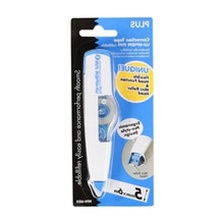book: (67, 13, 159, 208)
correction_fluid: (79, 48, 125, 198)
